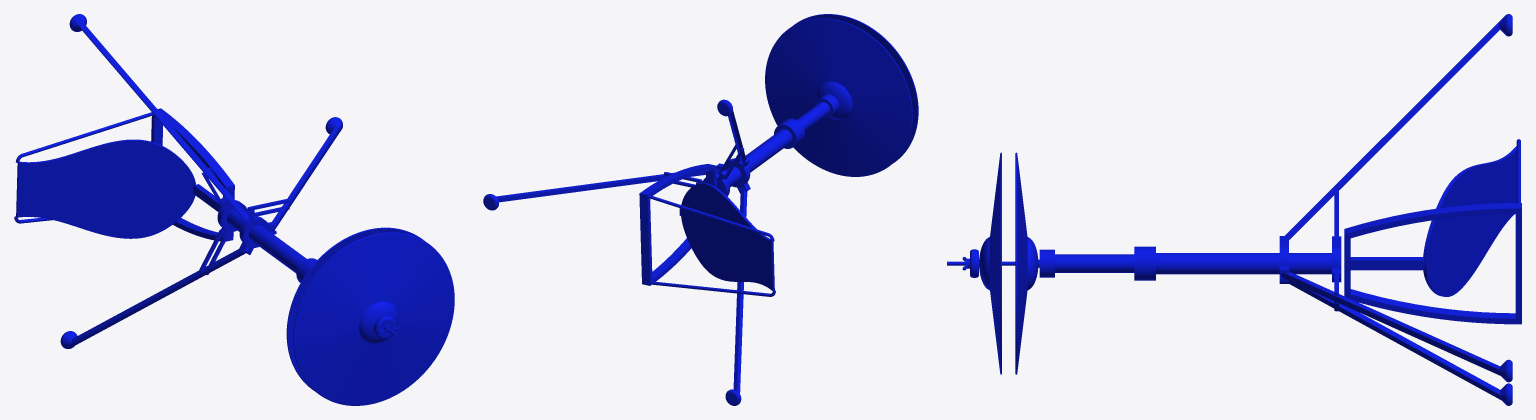
The model's file is 14cin.obj.
3 views of the same model, side by side, from view 1: azimuth 30°, elevation 25°; view 2: azimuth 150°, elevation 25°; view 3: azimuth 270°, elevation 25° (orthographic). The views are drawn at different scales.
Parts seen in each view (by area): view 1: mesh19, mesh49, mesh142, mesh11, mesh128, mesh115, mesh15, mesh33, mesh116, mesh21, mesh26, mesh88 (+3 smaller); view 2: mesh7, mesh50, mesh23, mesh90, mesh128, mesh28, mesh32, mesh3, mesh9, mesh109, mesh115, mesh26 (+5 smaller); view 3: mesh50, mesh31, mesh128, mesh140, mesh19, mesh7, mesh79, mesh89, mesh113, mesh33, mesh37, mesh109 (+5 smaller).
Boxes of the visible parts, x1=… form: mesh19: x1=294, y1=233, x2=454, y2=405; mesh49: x1=17, y1=140, x2=195, y2=238; mesh142: x1=74, y1=16, x2=249, y2=219; mesh11: x1=288, y1=228, x2=418, y2=386; mesh128: x1=249, y1=225, x2=306, y2=273; mesh115: x1=65, y1=249, x2=241, y2=347; mesh15: x1=359, y1=302, x2=398, y2=343; mesh33: x1=157, y1=108, x2=234, y2=186; mesh116: x1=65, y1=251, x2=248, y2=348; mesh21: x1=293, y1=232, x2=454, y2=405; mesh26: x1=22, y1=112, x2=153, y2=156; mesh88: x1=272, y1=123, x2=342, y2=223; mesh7: x1=765, y1=19, x2=911, y2=176; mesh50: x1=680, y1=183, x2=772, y2=290; mesh23: x1=798, y1=15, x2=917, y2=159; mesh90: x1=498, y1=168, x2=720, y2=202; mesh128: x1=745, y1=129, x2=792, y2=172; mesh28: x1=647, y1=165, x2=716, y2=285; mesh32: x1=639, y1=193, x2=650, y2=285; mesh3: x1=816, y1=82, x2=851, y2=119; mesh9: x1=765, y1=18, x2=912, y2=176; mesh109: x1=733, y1=187, x2=744, y2=390; mesh115: x1=737, y1=189, x2=747, y2=393; mesh26: x1=648, y1=195, x2=768, y2=235; mesh50: x1=1426, y1=150, x2=1516, y2=296; mesh31: x1=1344, y1=208, x2=1521, y2=324; mesh128: x1=1156, y1=253, x2=1279, y2=274; mesh140: x1=1285, y1=15, x2=1505, y2=239; mesh19: x1=990, y1=154, x2=1000, y2=372; mesh7: x1=1017, y1=155, x2=1027, y2=371; mesh79: x1=1055, y1=254, x2=1134, y2=272; mesh89: x1=1281, y1=273, x2=1505, y2=378; mesh113: x1=1289, y1=281, x2=1500, y2=399; mesh33: x1=1344, y1=203, x2=1521, y2=234; mesh37: x1=1350, y1=289, x2=1515, y2=318; mesh109: x1=1308, y1=289, x2=1500, y2=394.
Bounding box in the file's own units: 0.7207 × 0.706 × 0.9311.
